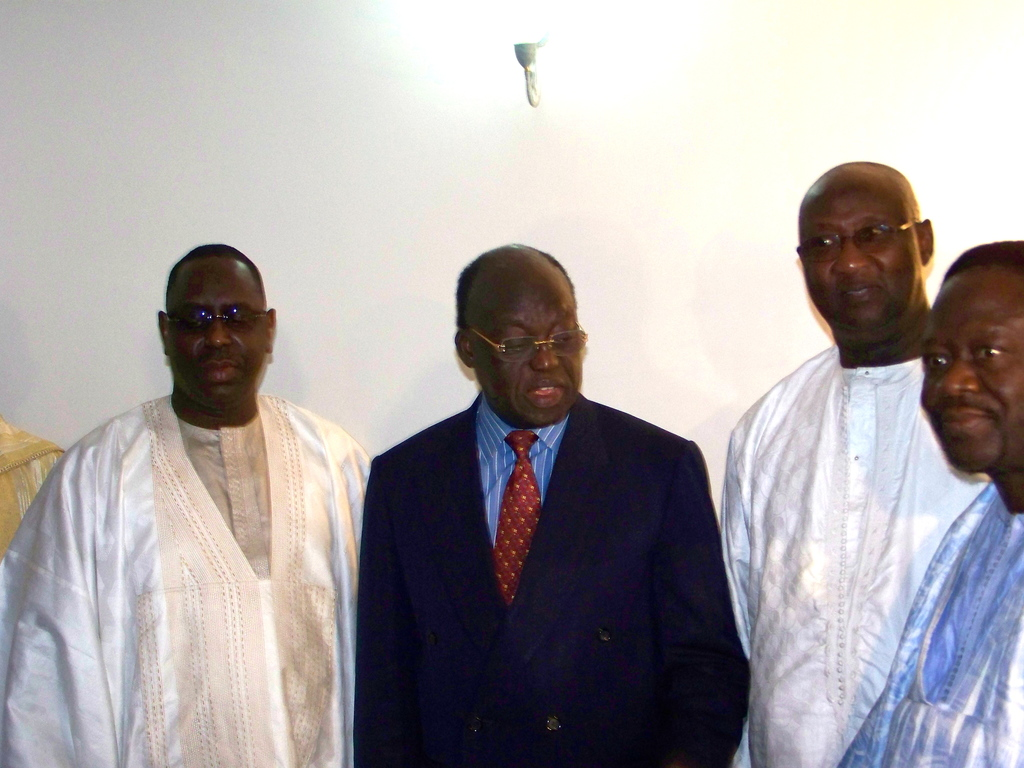Person: (352, 241, 751, 768), (0, 243, 372, 768), (721, 161, 994, 768), (838, 239, 1024, 768), (0, 411, 65, 565)
